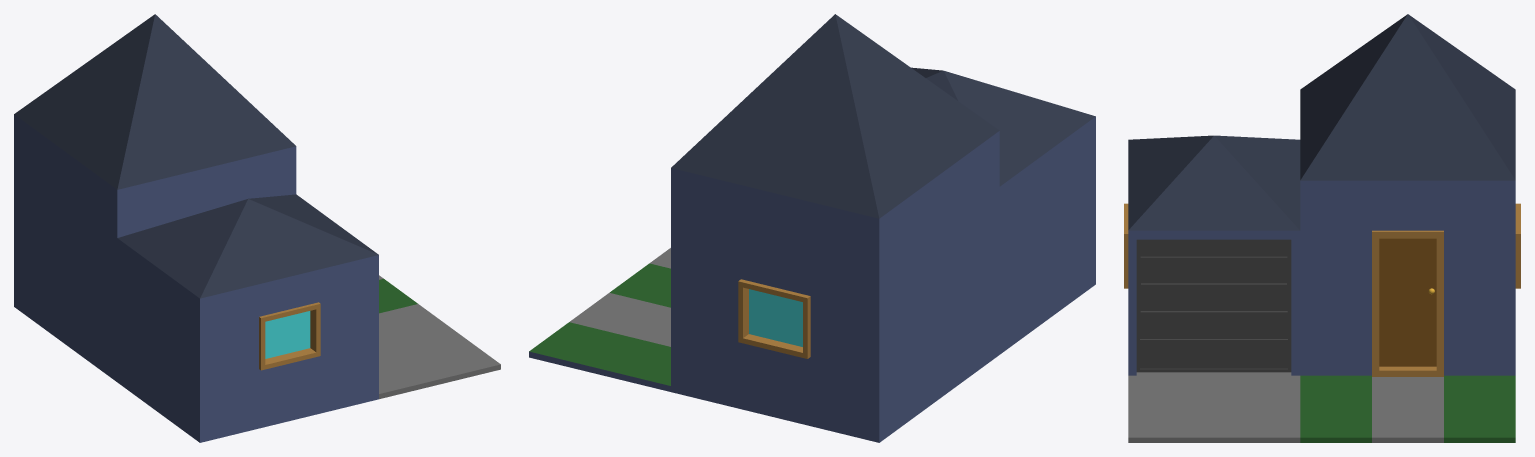
Rendered from HousewGarage.fbx.
3 renders of one model, left to right at view 1: azimuth 30°, elevation 25°; view 2: azimuth 150°, elevation 25°; view 3: azimuth 270°, elevation 25°, orthographic. The views are drawn at different scales.
Visible parts, largest first — view 1: House; view 2: House; view 3: House.
Part boxes in pixels (bbox=[...]): House: bbox=[14, 14, 500, 442]; House: bbox=[529, 14, 1095, 442]; House: bbox=[1124, 14, 1520, 442].
Bounding box in the file's own units: 850 × 834 × 932.
